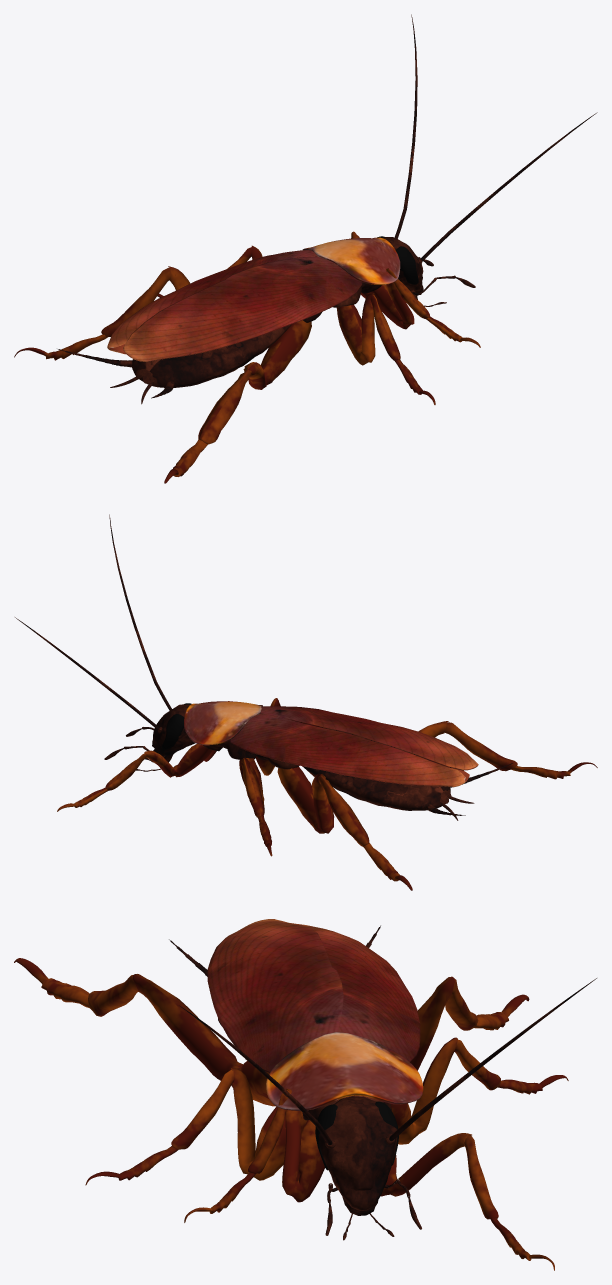
The model's file is cockroach.obj.
3 views of the same model, one above another, from view 1: azimuth 30°, elevation 25°; view 2: azimuth 150°, elevation 25°; view 3: azimuth 270°, elevation 25° (orthographic). The views are drawn at different scales.
Parts seen in each view (by area): view 1: Roach_roach_one_texture1_0; view 2: Roach_roach_one_texture1_0; view 3: Roach_roach_one_texture1_0.
Part boxes in pixels (box(x1,y1,x2,y2)): Roach_roach_one_texture1_0: box(14, 14, 597, 483); Roach_roach_one_texture1_0: box(15, 514, 597, 890); Roach_roach_one_texture1_0: box(14, 919, 596, 1270).
Size of the model in its own units: 0.3623 by 0.1668 by 0.2616.
Materials: 1 (1 with a texture image).
